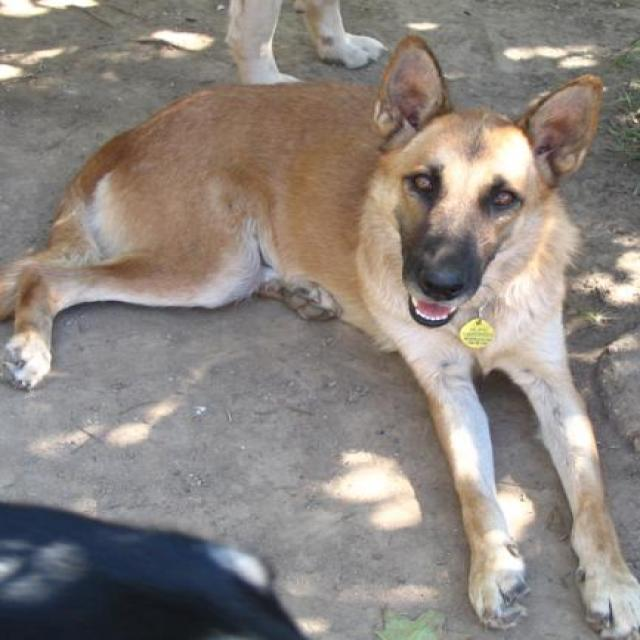Dogs: (0, 32, 639, 639)
